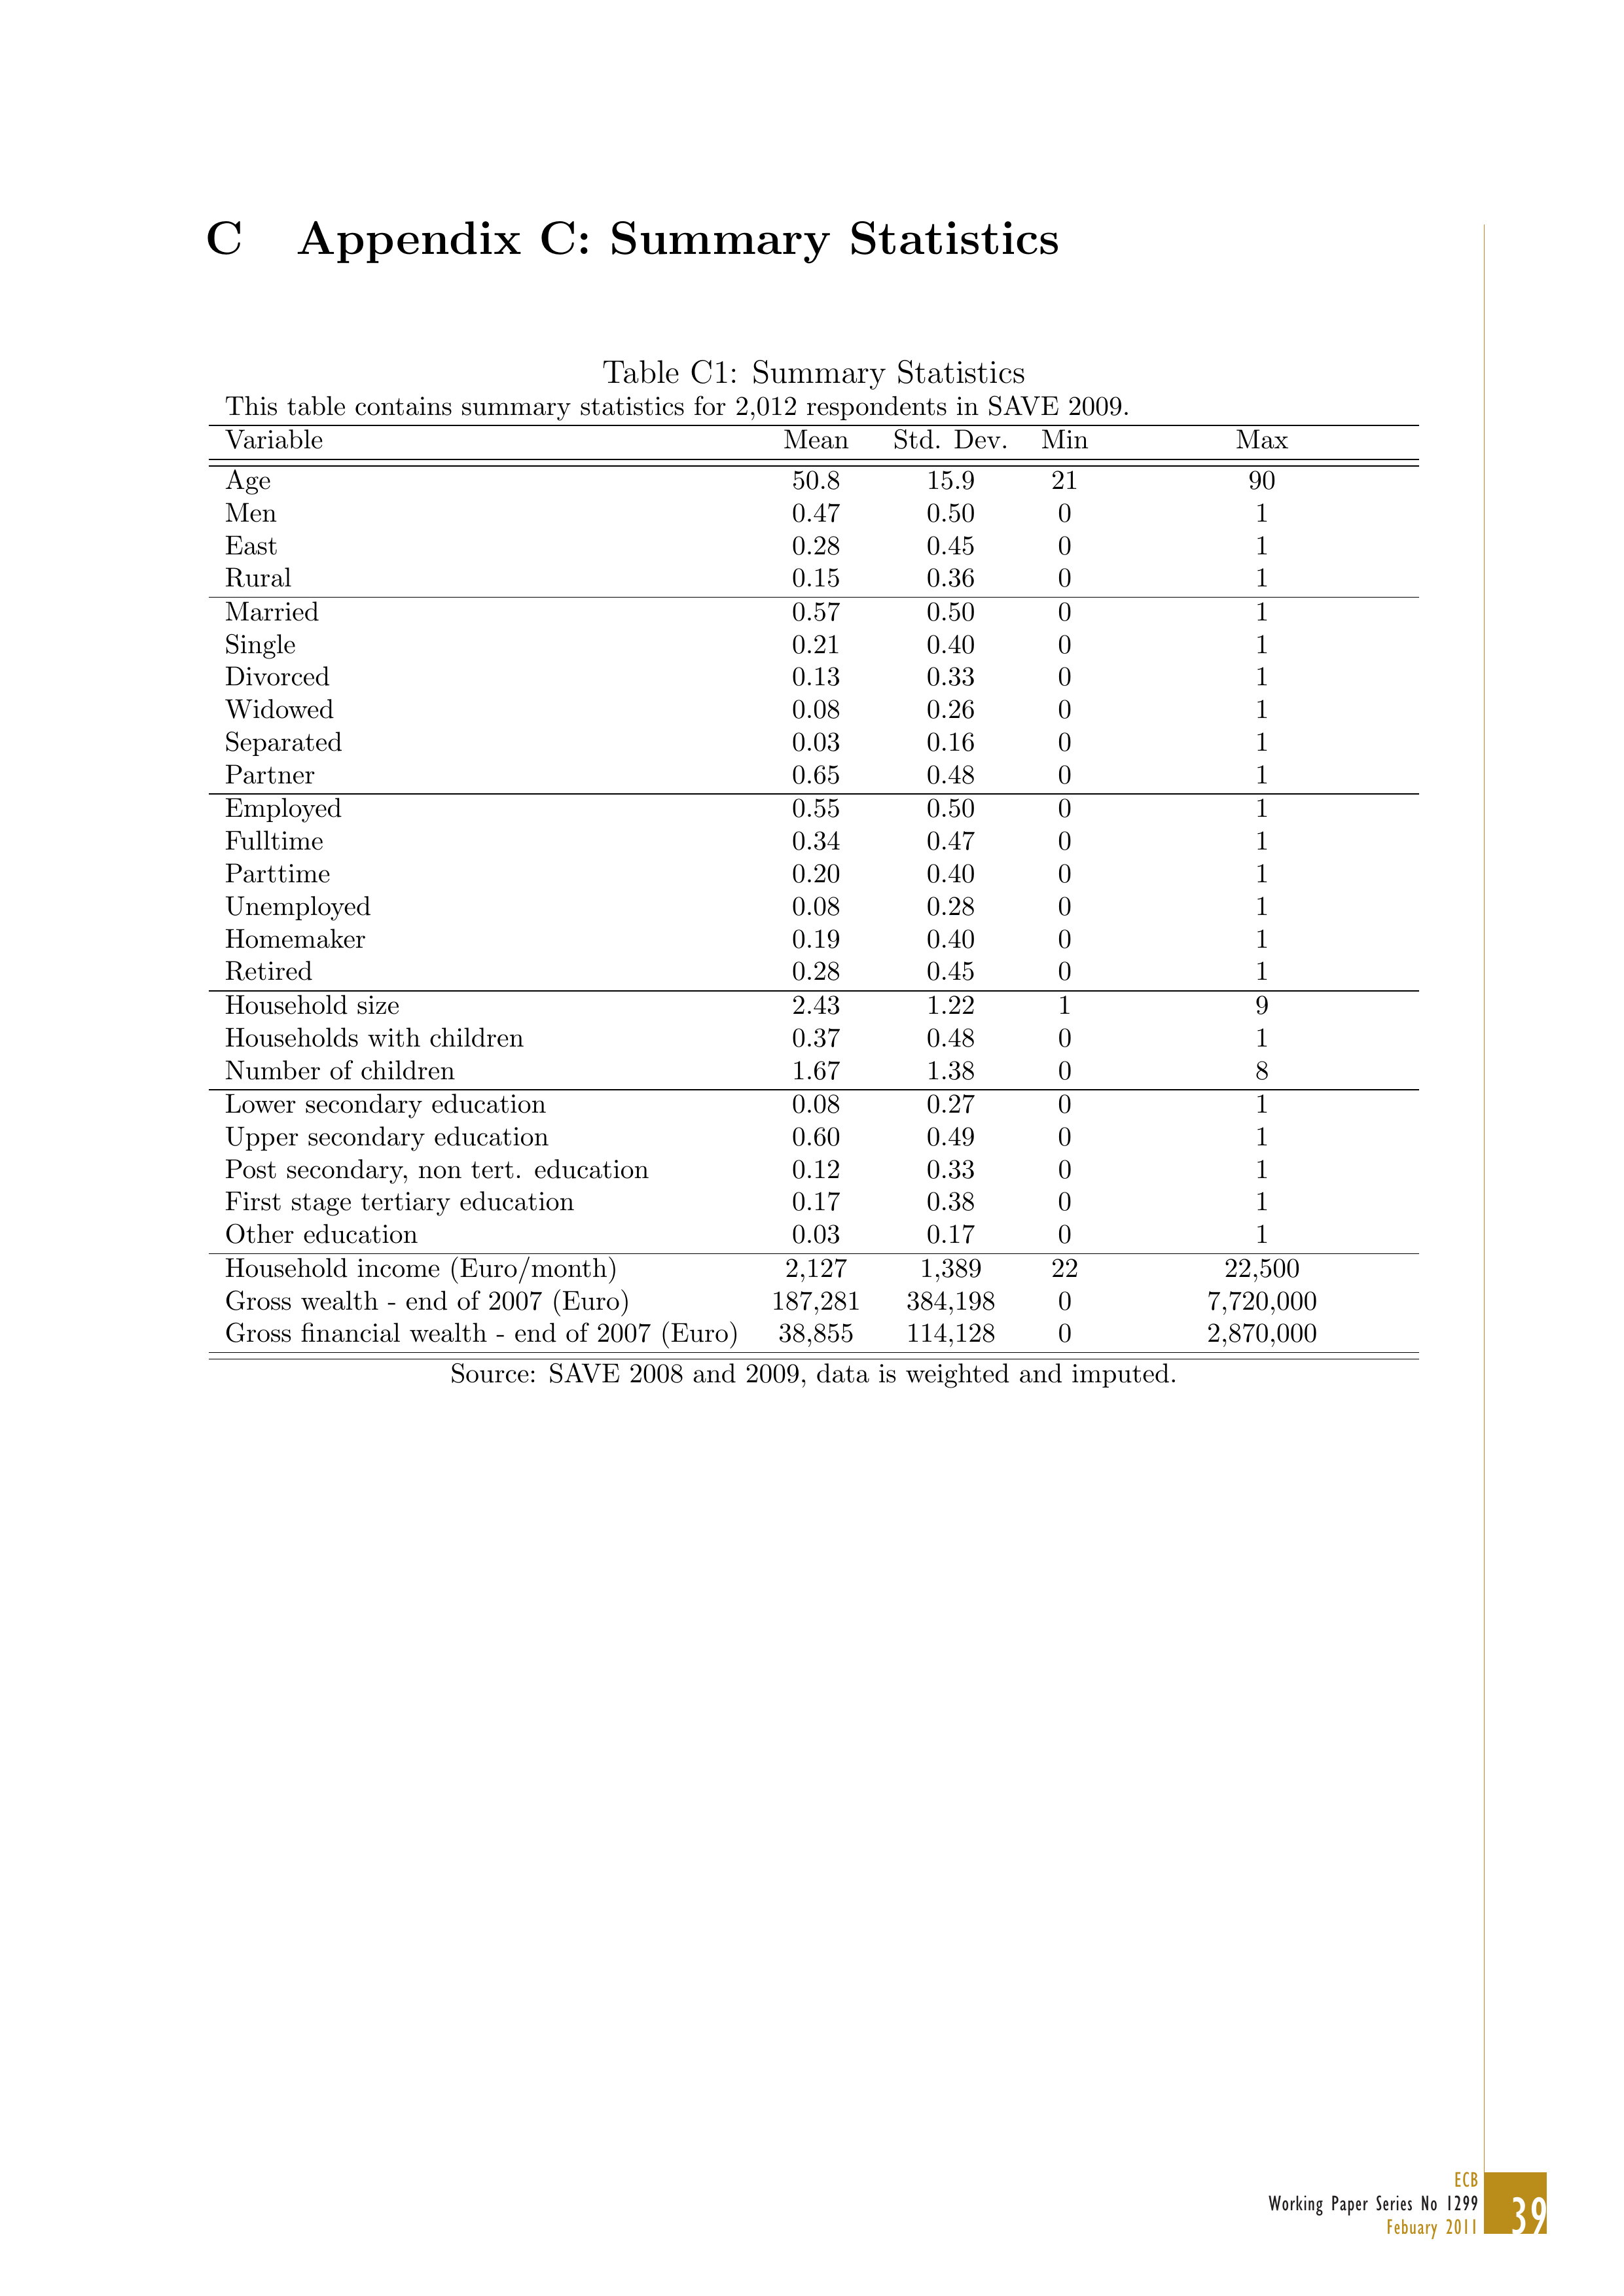table: (206, 422, 1397, 1360)
